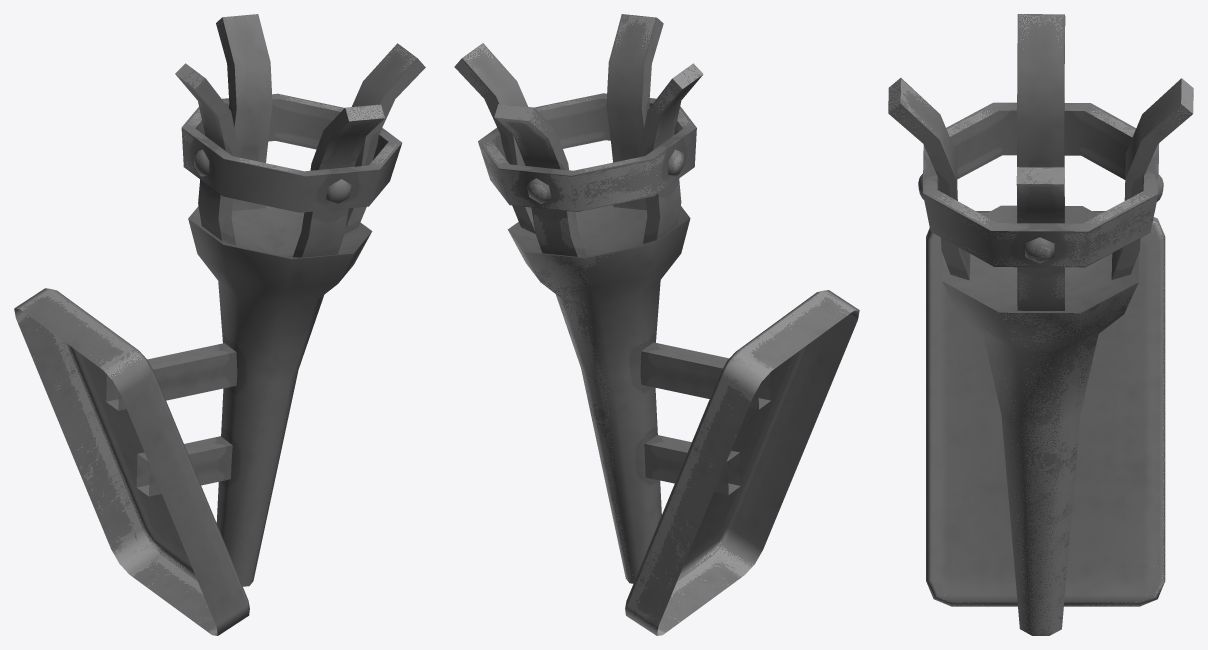
Rendered from Torch.fbx.
3 views of the same model, side by side, from view 1: azimuth 30°, elevation 25°; view 2: azimuth 150°, elevation 25°; view 3: azimuth 270°, elevation 25° (orthographic). The views are drawn at different scales.
Parts seen in each view (by area): view 1: TORCH; view 2: TORCH; view 3: TORCH.
Part boxes in pixels (left/top/right/bottom): TORCH: left=14, top=14, right=425, bottom=635; TORCH: left=454, top=14, right=859, bottom=635; TORCH: left=888, top=14, right=1193, bottom=635.
Size of the model in its own units: 2.7 by 3.88 by 1.78.
Materials: 1 (1 with a texture image).
